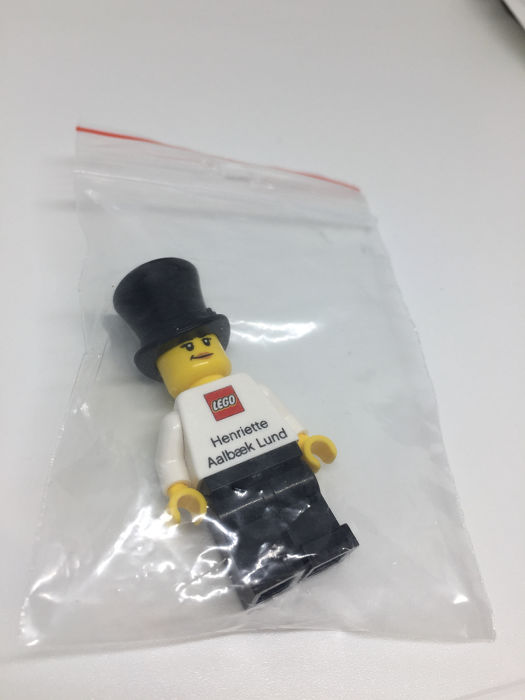lego: (99, 252, 375, 622)
